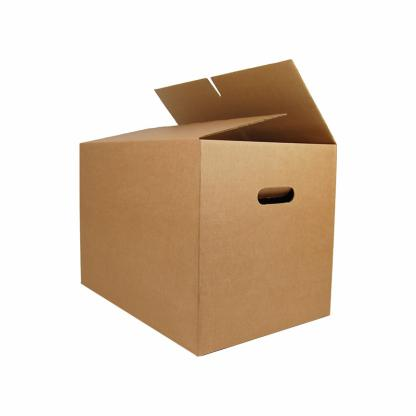box: (76, 57, 338, 358)
